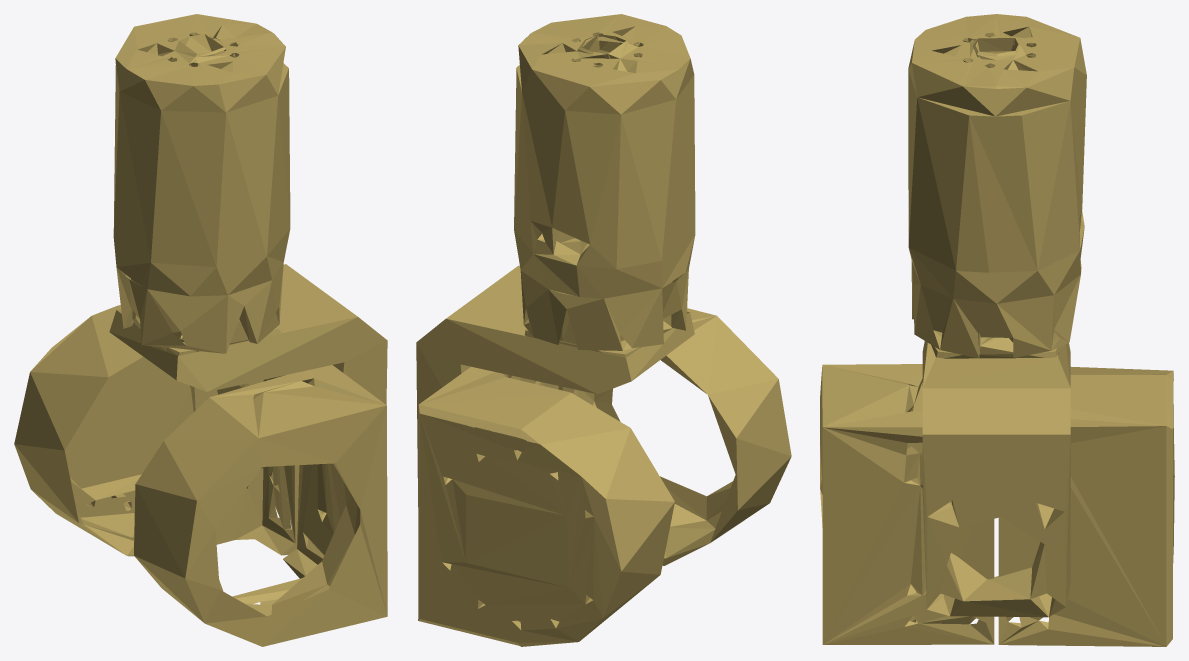
Rendered from r_shoulder_rotation.dae.
The picture shows the model from 3 angles, left to right: view 1: azimuth 30°, elevation 25°; view 2: azimuth 150°, elevation 25°; view 3: azimuth 270°, elevation 25°; orthographic projection. The views are drawn at different scales.
Visible parts, largest first — view 1: M3R; view 2: M3R; view 3: M3R.
Part boxes in pixels (bbox=[...]): M3R: bbox=[14, 14, 387, 646]; M3R: bbox=[416, 14, 791, 646]; M3R: bbox=[820, 14, 1174, 646].
Bounding box in the file's own units: 0.0693 × 0.0814 × 0.1398.
